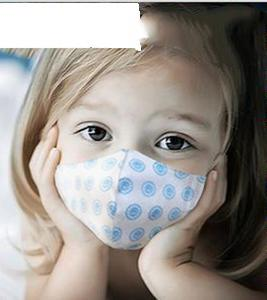OK: (62, 85, 218, 241)
